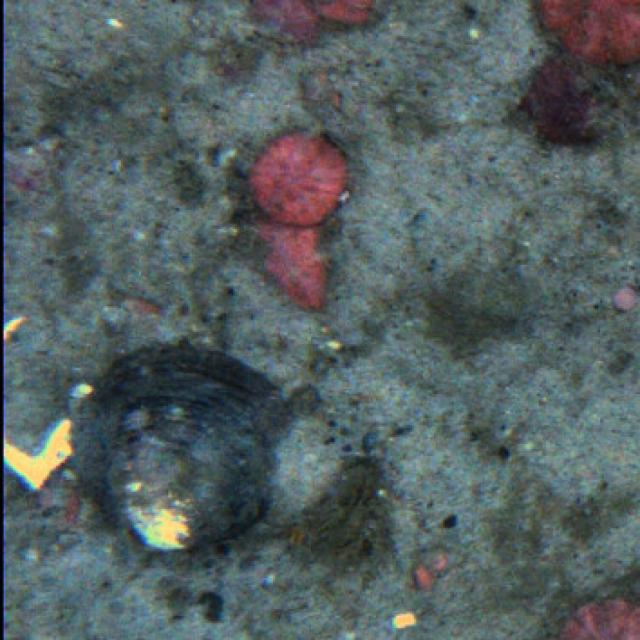Oyster-Indeterminate: (64, 351, 312, 555)
